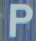Parking: (6, 2, 33, 40)
